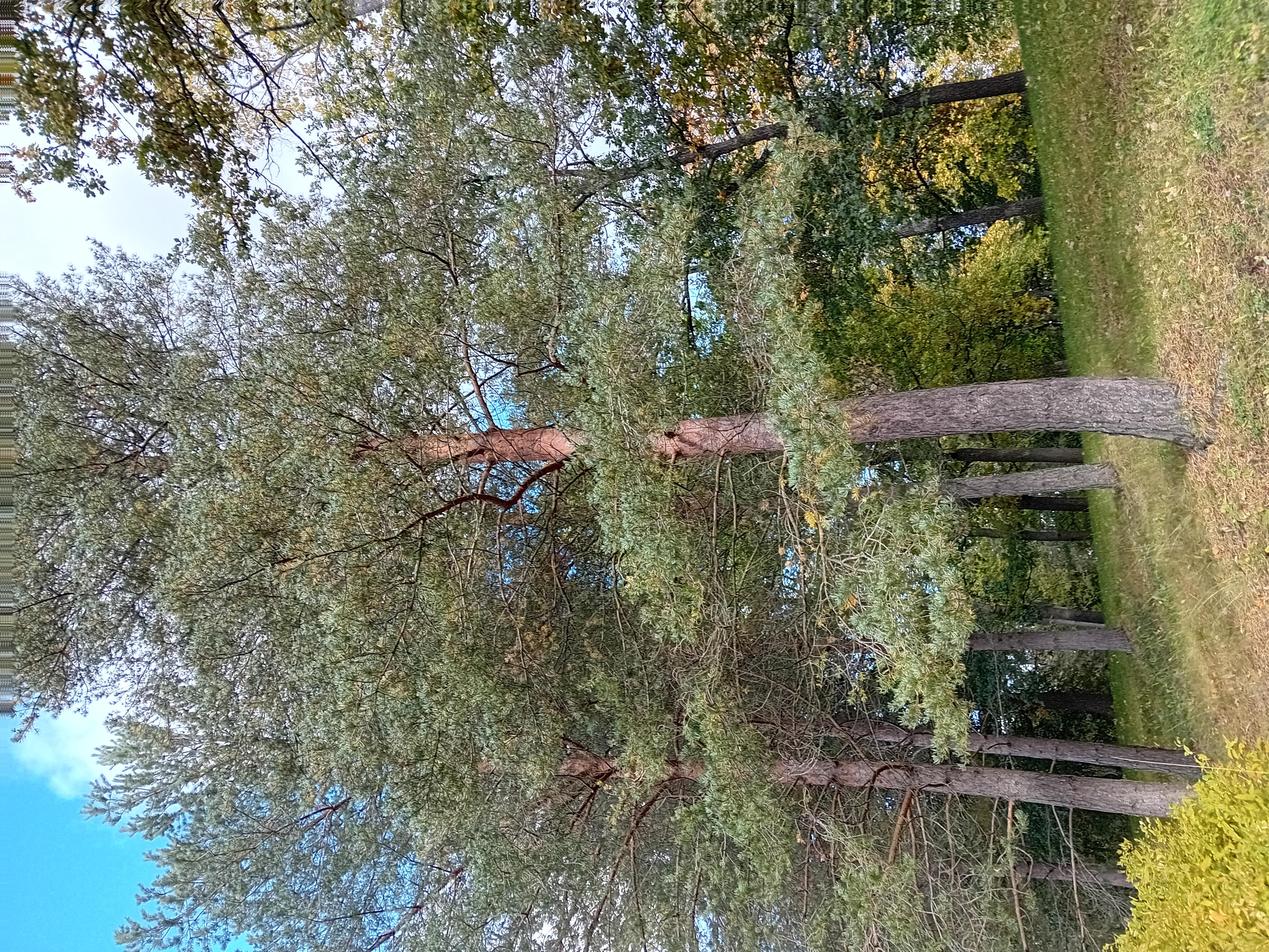Pine: (377, 1, 1001, 907), (30, 66, 375, 850), (411, 219, 670, 843)
